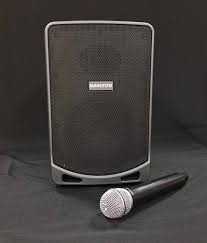microphone: (97, 172, 196, 220)
speaker: (34, 18, 152, 184)
